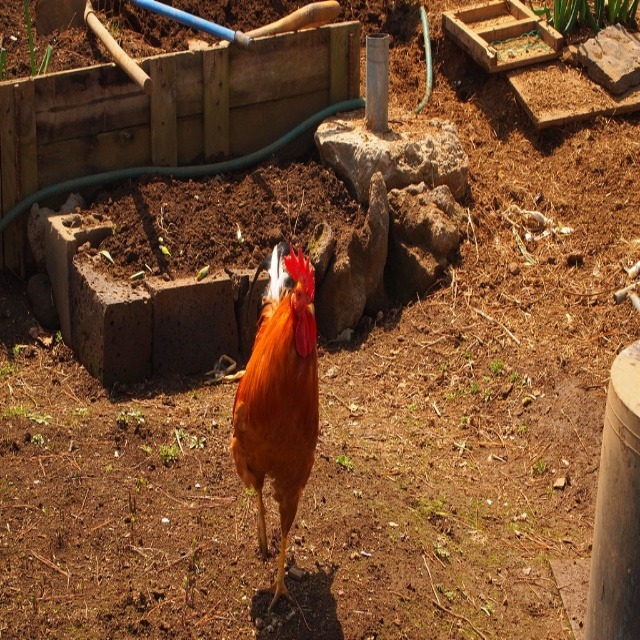Chicken: (232, 249, 323, 596)
